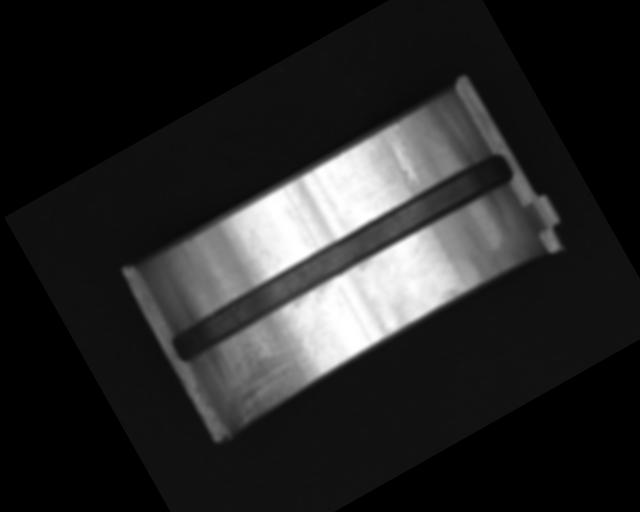gap: (167, 149, 518, 367)
nick: (377, 120, 430, 190)
scratch: (196, 295, 346, 431)
